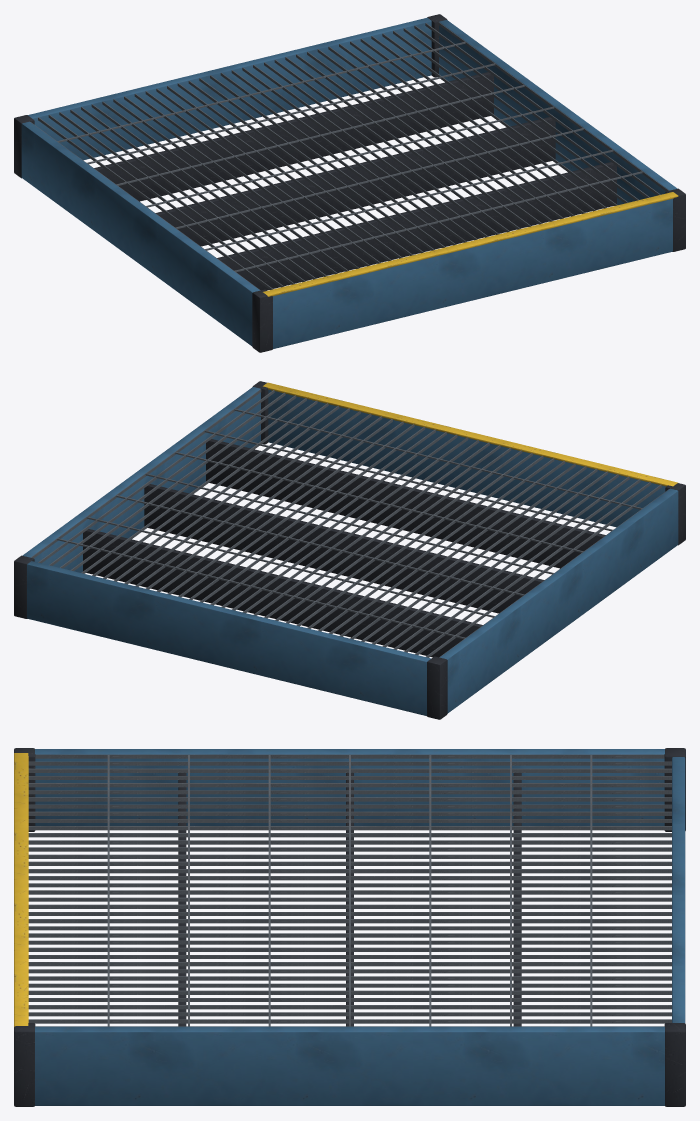
File: stair_landing.glb
3 views of the same model, one above another, from view 1: azimuth 30°, elevation 25°; view 2: azimuth 150°, elevation 25°; view 3: azimuth 270°, elevation 25° (orthographic). The views are drawn at different scales.
Parts seen in each view (by area): view 1: StairLandingMesh; view 2: StairLandingMesh; view 3: StairLandingMesh.
Boxes of the visible parts, bbox=[...] form: StairLandingMesh: bbox=[14, 14, 685, 352]; StairLandingMesh: bbox=[14, 381, 685, 719]; StairLandingMesh: bbox=[14, 748, 685, 1106].
Bounding box in the file's own units: 2 × 0.2505 × 2.
4 materials, 4 textured.
